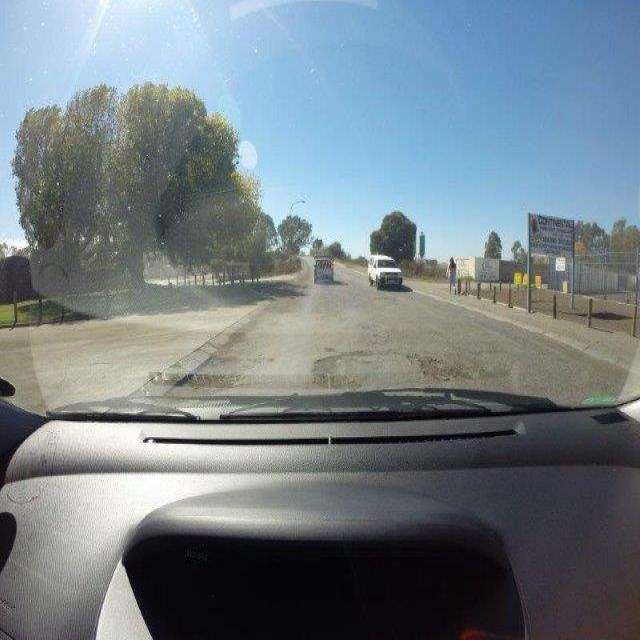jalan retak: (362, 314, 400, 351)
lubang: (175, 341, 259, 395), (301, 346, 375, 391), (406, 353, 467, 387)
